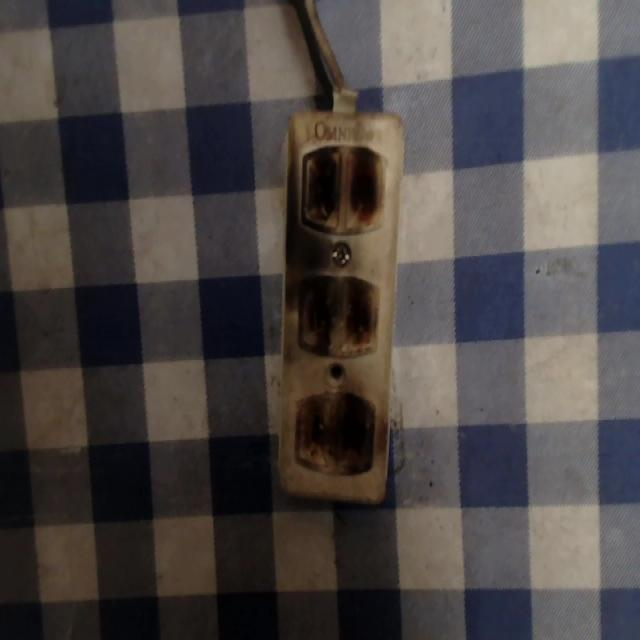-: (300, 140, 386, 236), (290, 391, 377, 476), (295, 270, 381, 354)
